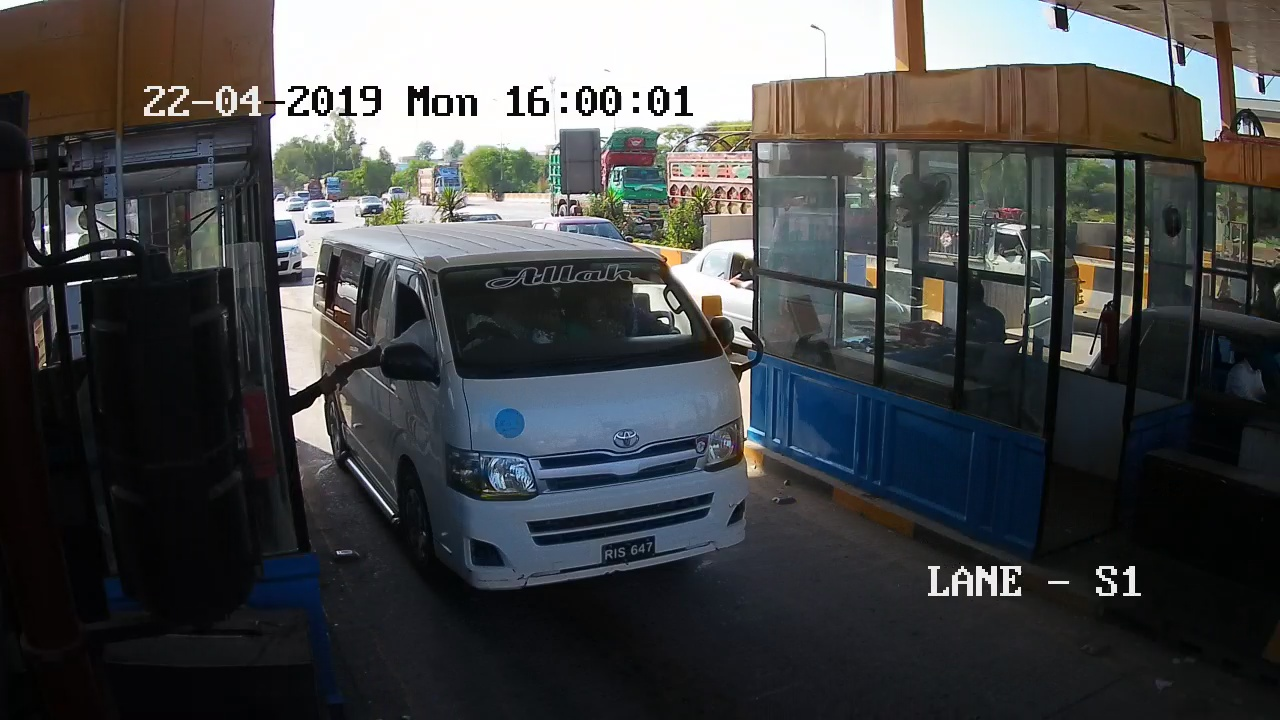Number Plate (Car): (601, 540, 654, 560)
